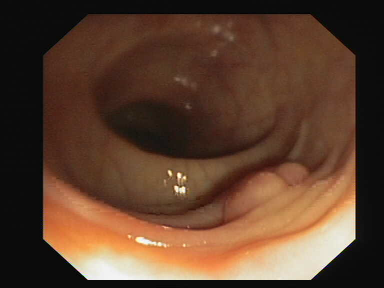polyp: (202, 144, 340, 233)
